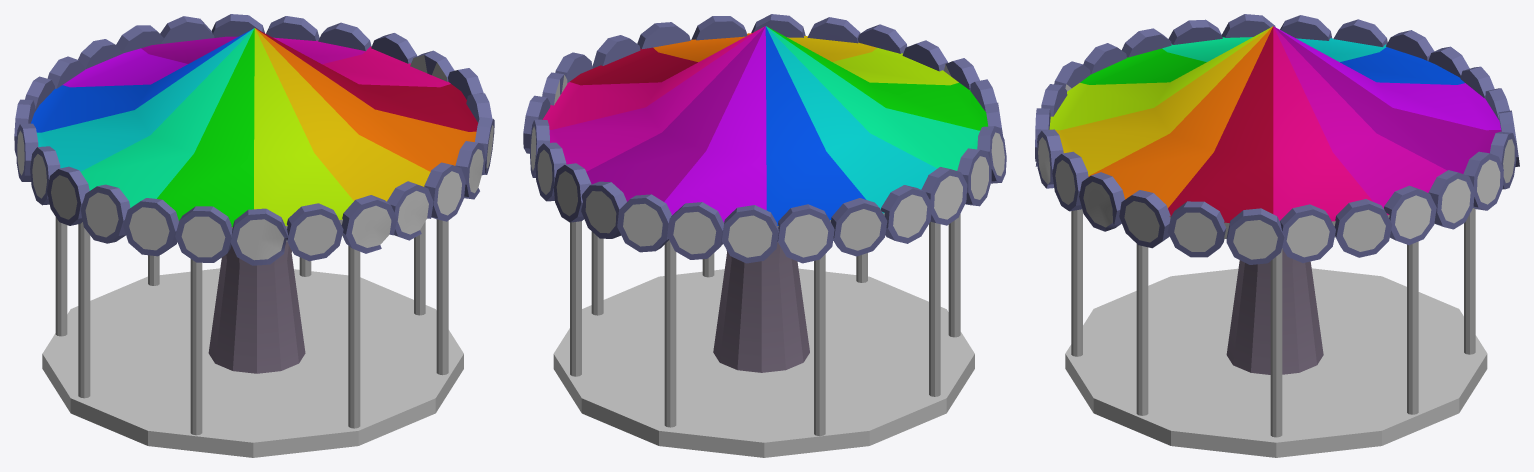
File: Draaimolen.fbx
The picture shows the model from 3 angles, left to right: view 1: azimuth 30°, elevation 25°; view 2: azimuth 150°, elevation 25°; view 3: azimuth 270°, elevation 25°; orthographic projection.
Parts seen in each view (by area): view 1: pDisc2; view 2: pDisc2; view 3: pDisc2.
Boxes of the visible parts, <box> form: pDisc2: <box>14,14,494,457</box>; pDisc2: <box>523,14,1006,457</box>; pDisc2: <box>1035,14,1519,457</box>.
Size of the model in its own units: 5.98 by 4.73 by 6.06.
